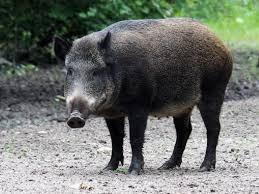wildboar: (51, 15, 236, 175)
